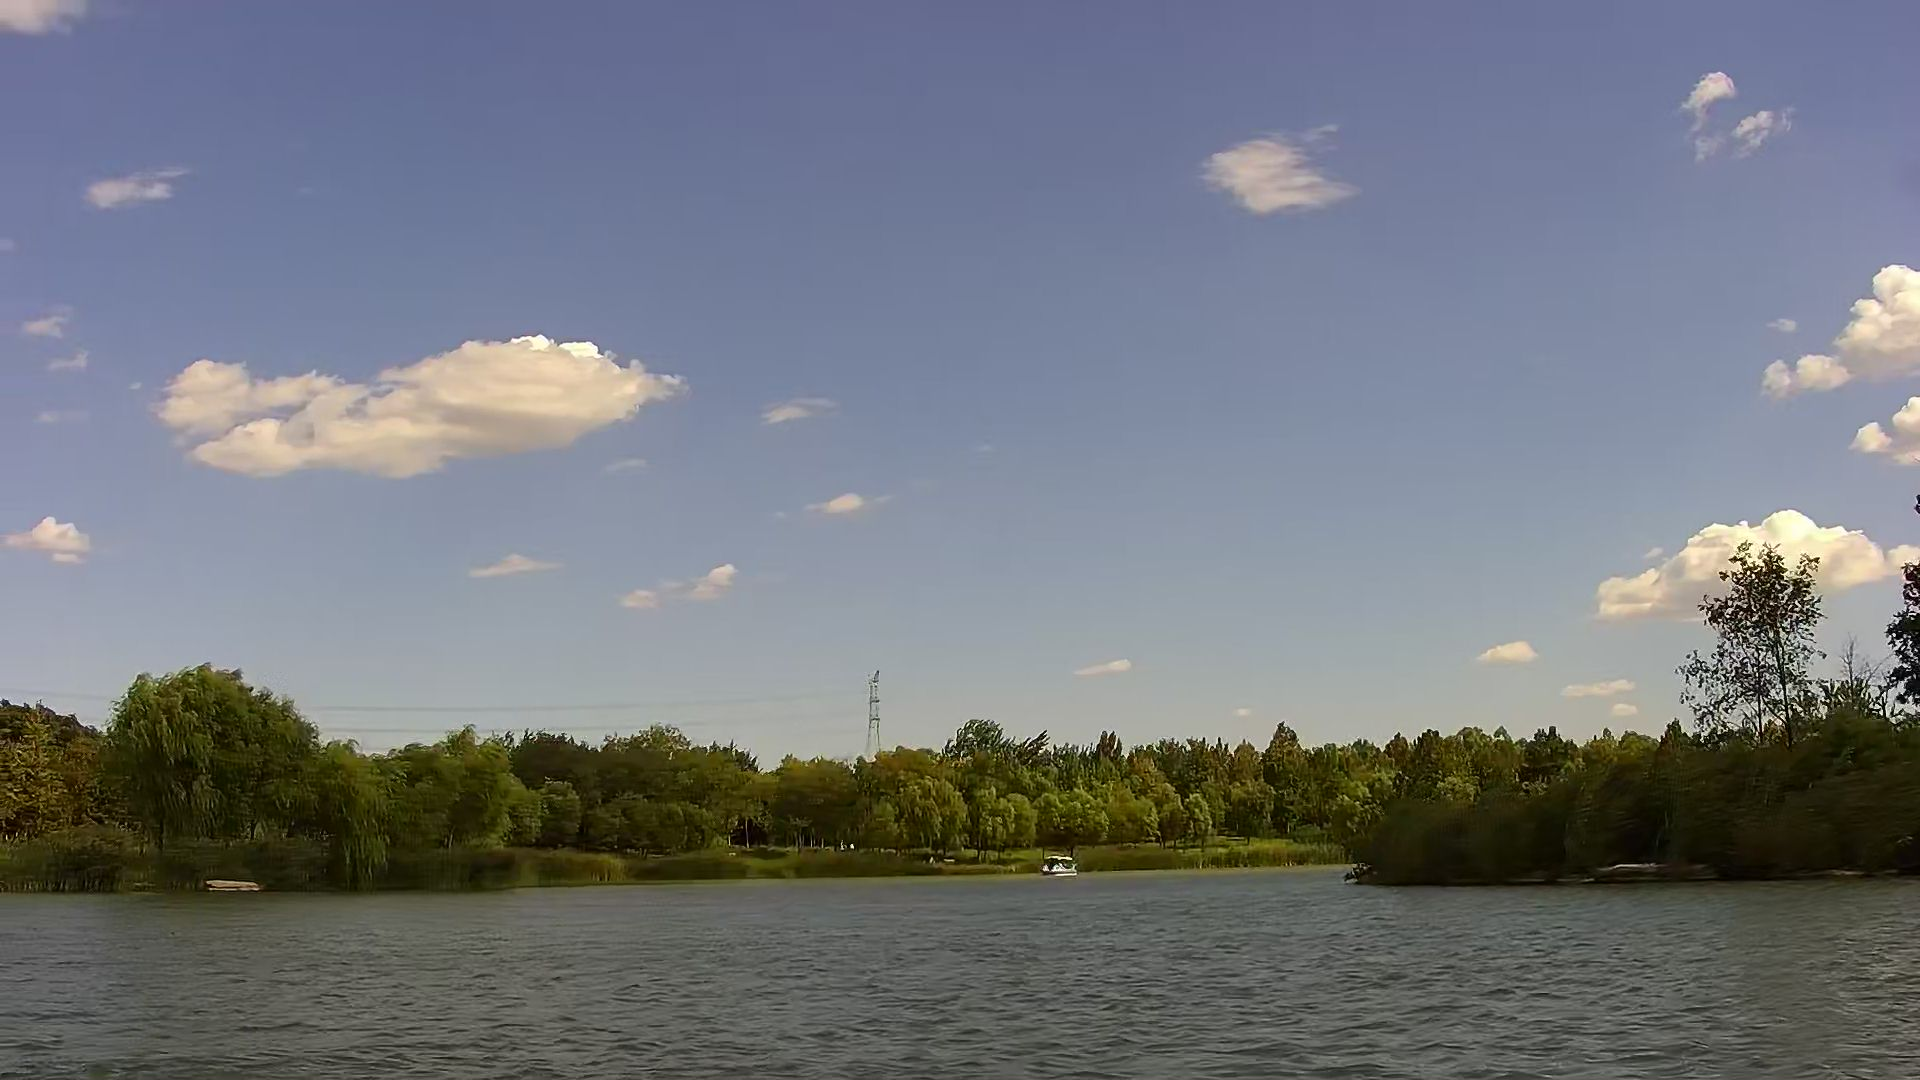boat: (1043, 853, 1077, 880)
rock: (1606, 864, 1692, 887), (204, 874, 258, 895), (1829, 866, 1874, 877)
